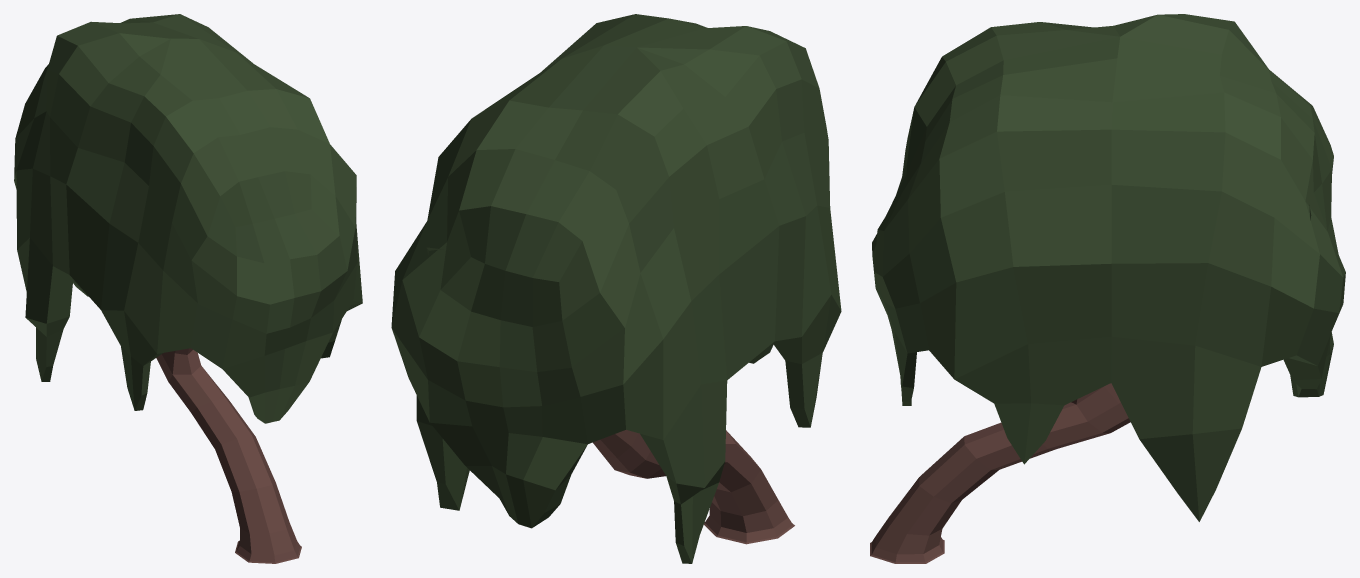
Rendered from willow3.glb.
3 views of the same model, side by side, from view 1: azimuth 30°, elevation 25°; view 2: azimuth 150°, elevation 25°; view 3: azimuth 270°, elevation 25° (orthographic). The views are drawn at different scales.
Visible parts, largest first — view 1: Willow_3; view 2: Willow_3; view 3: Willow_3.
Boxes of the visible parts, x1,y1,x2,y2 form: Willow_3: [14, 14, 362, 563]; Willow_3: [391, 14, 841, 563]; Willow_3: [870, 14, 1345, 563].
Bounding box in the file's own units: 1.32 × 2.35 × 1.98.
